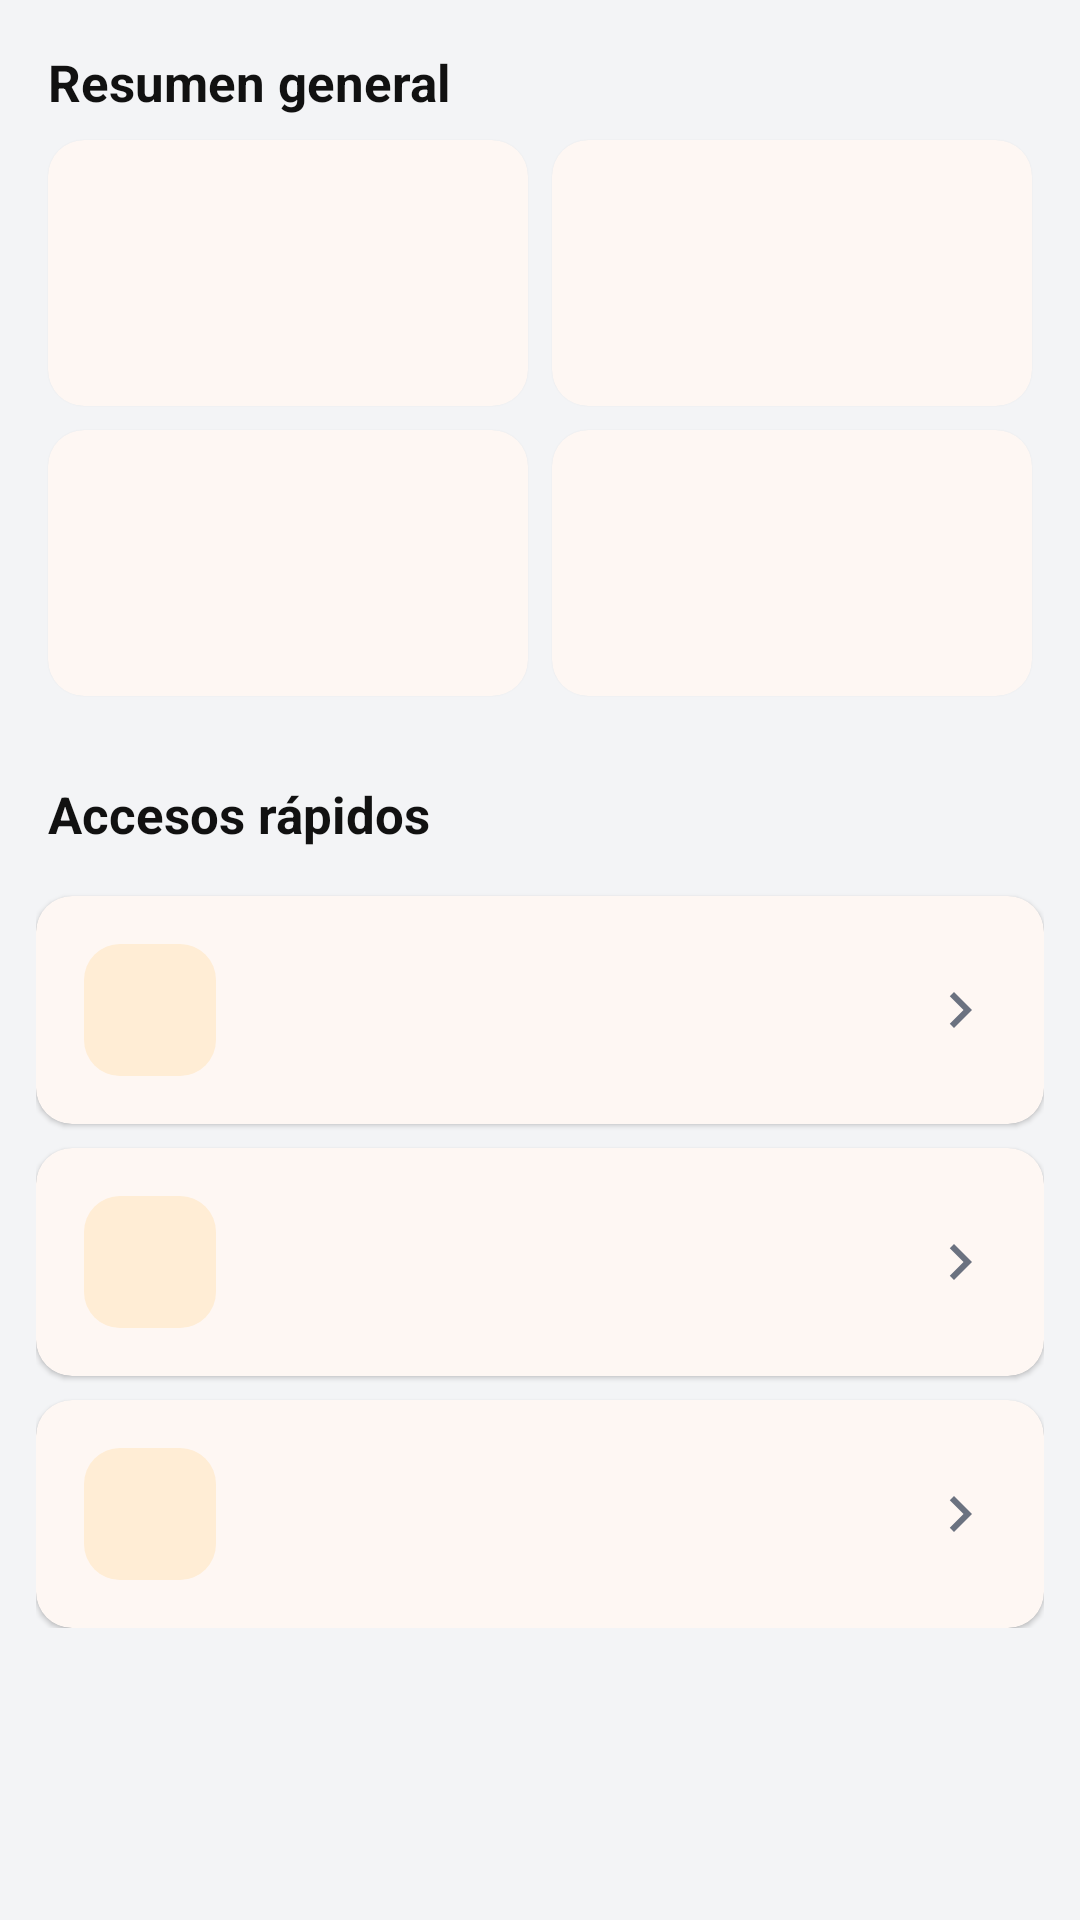

Screen size 1080×1920. Icon name, then its center in pixels as (x=x, y=y):
chevron right: (x=961, y=1010), (x=961, y=1262), (x=961, y=1514)
